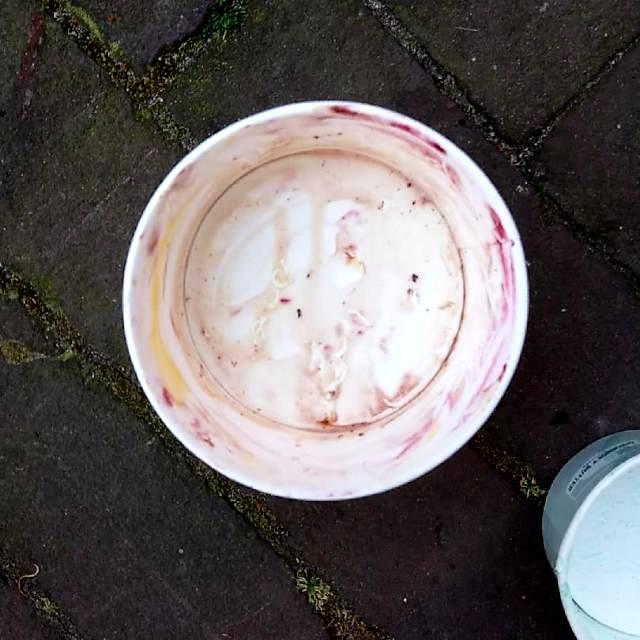Paper: (114, 93, 536, 509), (538, 424, 640, 640)
